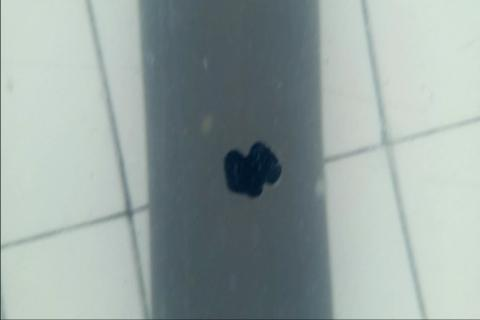kebocoran: (222, 139, 284, 200)
